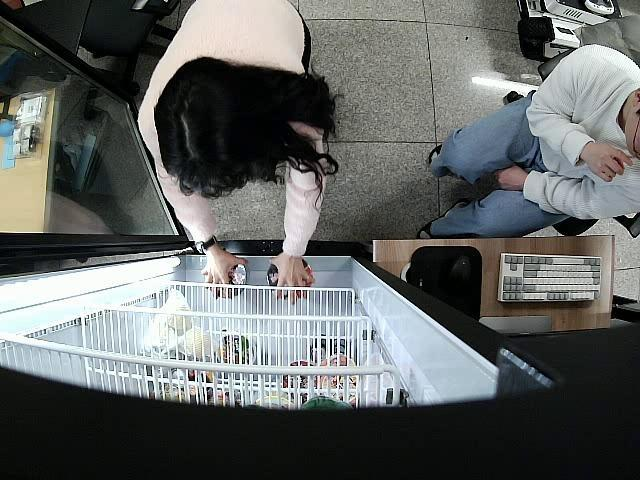07_buldak_L: (266, 262, 312, 303), (208, 264, 248, 299)
